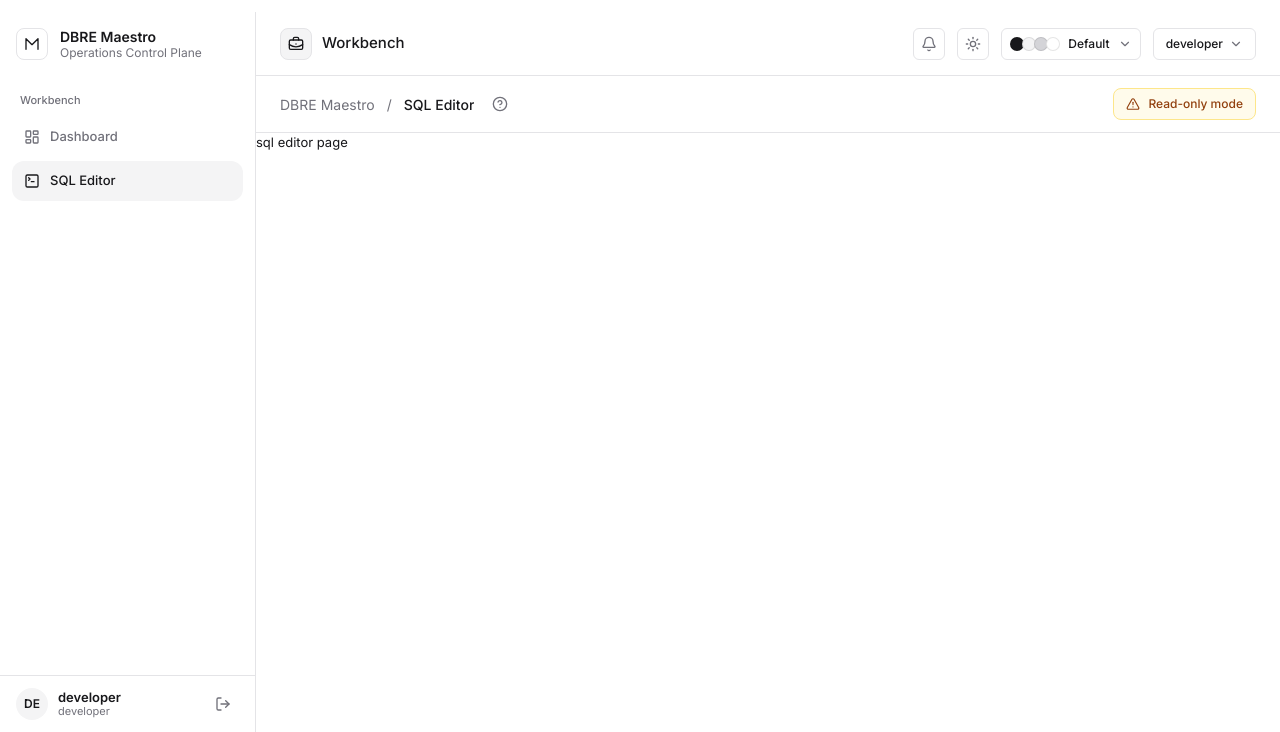
Test case: AppShell notifications › sql editor breadcrumb 會顯示頁面說明 popover
This screenshot has width=1280, height=732.
Click the button named "Show SQL Editor Guide" at (500, 104), box [486, 90, 514, 118]
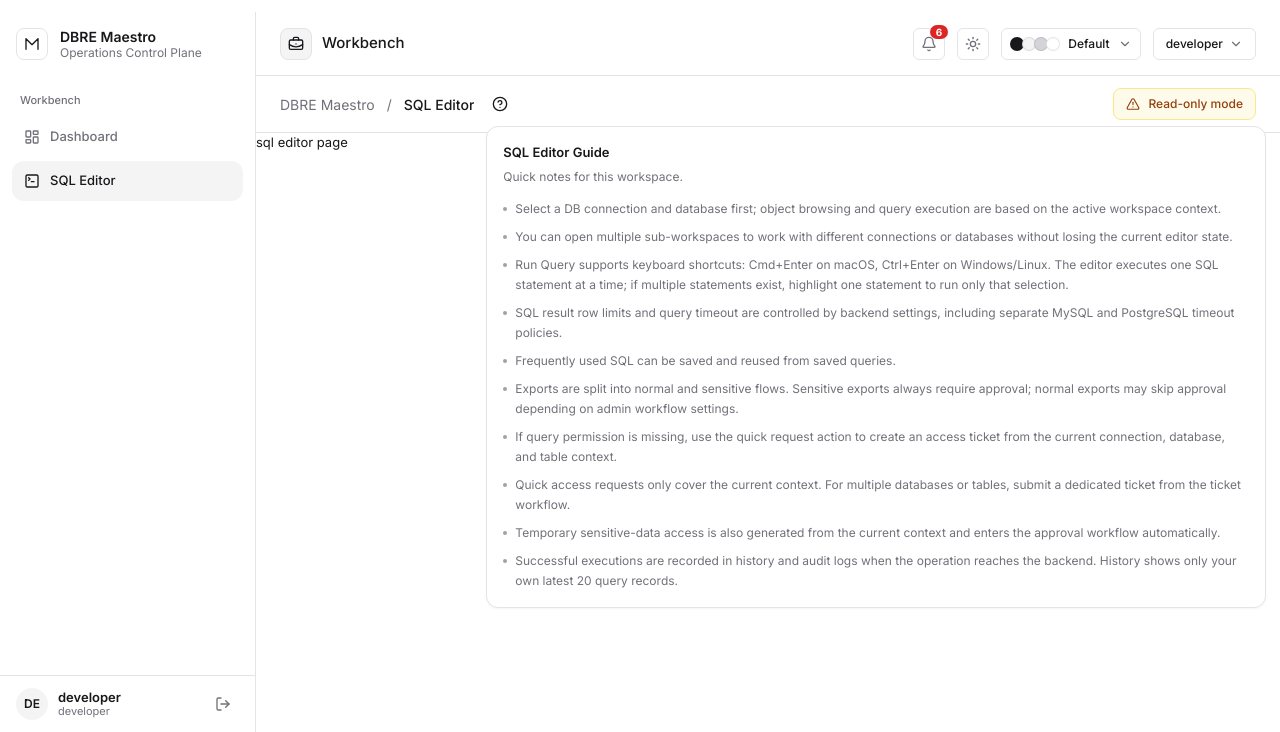
Now the text "SQL Editor Guide" is shown, box [503, 144, 610, 160]
Now the text "Select a DB connection" is shown, box [515, 200, 1221, 216]
